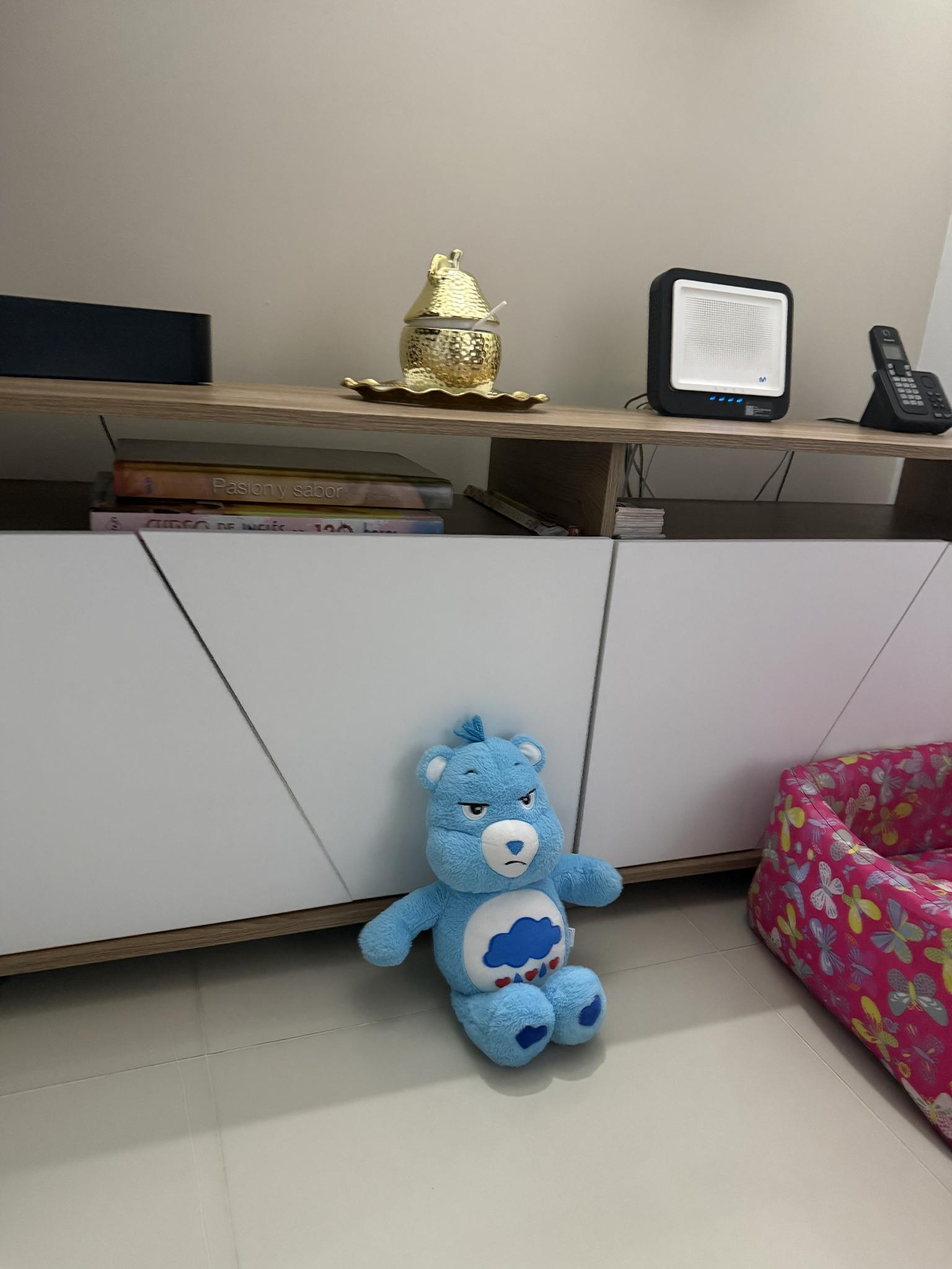peluche_Juan Jose: (351, 718, 629, 1077)
